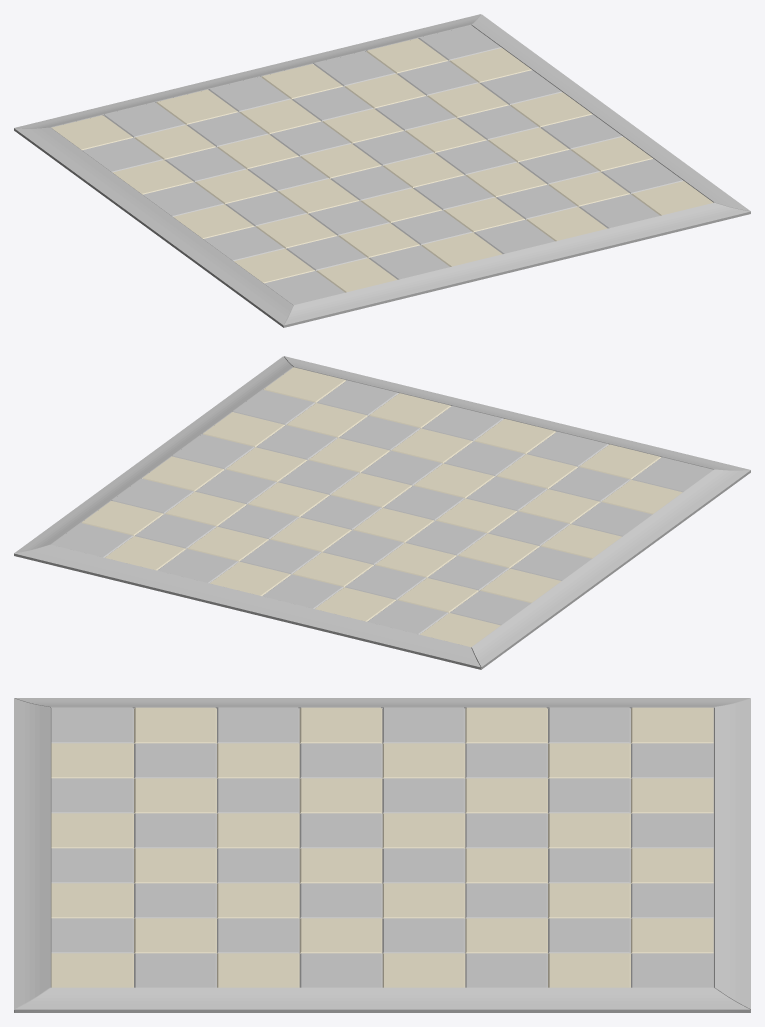
File: Chessboard.obj
3 renders of one model, top to bottom at view 1: azimuth 30°, elevation 25°; view 2: azimuth 150°, elevation 25°; view 3: azimuth 270°, elevation 25°, orthographic. The views are drawn at different scales.
Visible parts, largest first — view 1: Plane.001, Plane; view 2: Plane.001, Plane; view 3: Plane.001, Plane.
Boxes of the visible parts, x1,y1,x2,y2 form: Plane.001: (51, 25, 713, 304); Plane: (14, 14, 750, 327); Plane.001: (51, 367, 713, 646); Plane: (14, 356, 750, 669); Plane.001: (51, 707, 713, 987); Plane: (14, 698, 750, 1012).
Bounding box in the file's own units: 2 × 0.0296 × 2.
